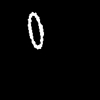chain: (28, 12, 43, 48)
